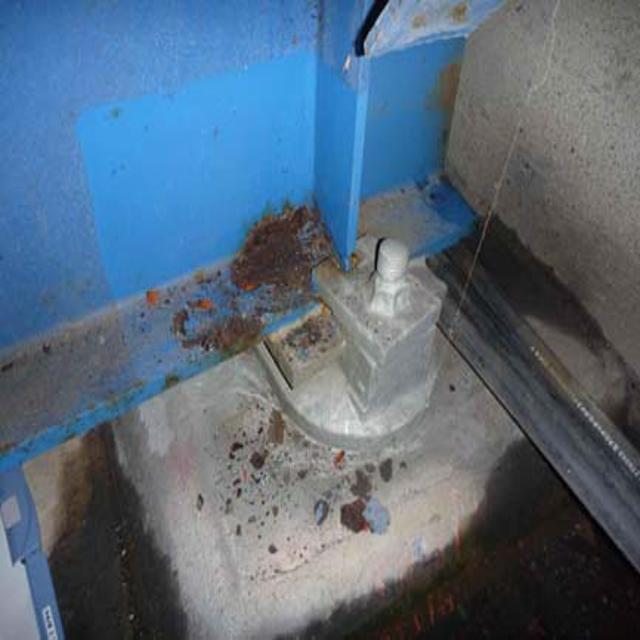corrosion: (157, 176, 376, 370)
